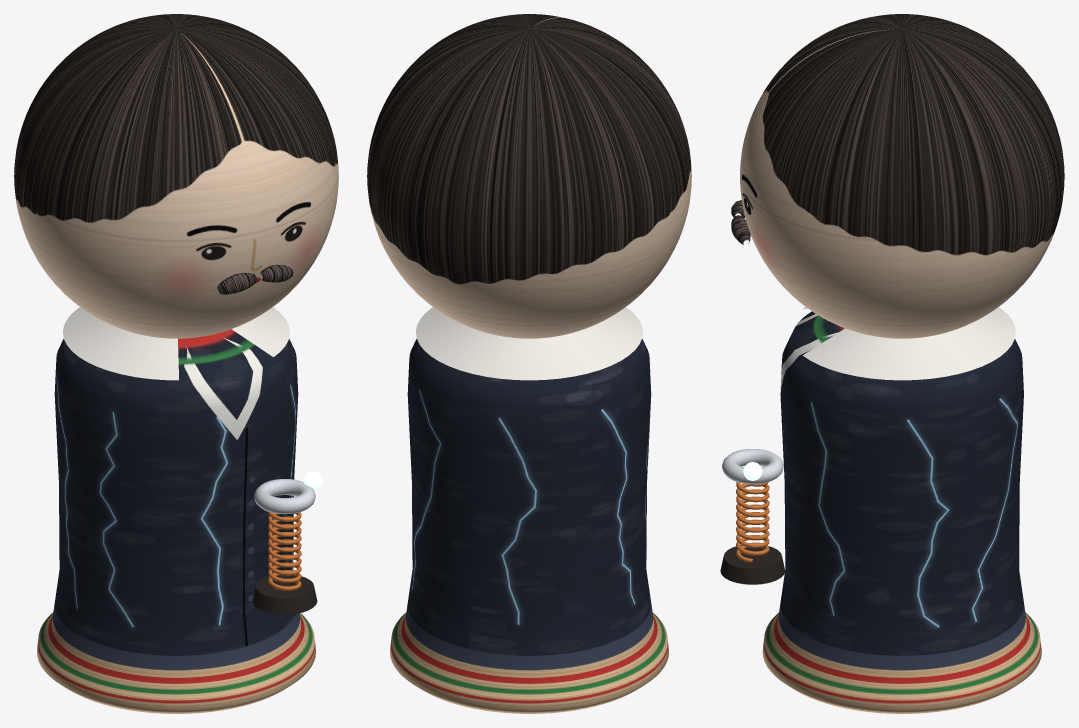
File: tesla.glb
The picture shows the model from 3 angles, left to right: view 1: azimuth 30°, elevation 25°; view 2: azimuth 150°, elevation 25°; view 3: azimuth 270°, elevation 25°; orthographic projection.
Parts seen in each view (by area): view 1: body, head, Nikola Tesla; view 2: head, body, Nikola Tesla; view 3: body, head, Nikola Tesla.
Boxes of the visible parts, x1,y1,x2,y2 form: body: (37,329,315,713); head: (14,14,338,338); Nikola Tesla: (63,264,322,614); head: (367,14,691,338); body: (390,338,668,713); Nikola Tesla: (416,307,642,380); body: (762,311,1041,713); head: (740,14,1064,338); Nikola Tesla: (720,200,1015,584).
Size of the model in its own units: 0.075 by 0.1605 by 0.0795.
Materials: 9 (3 with a texture image).
